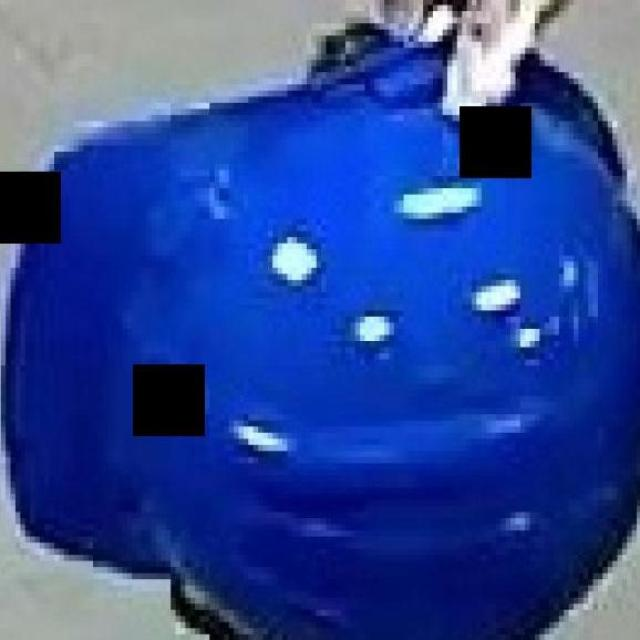blue helmet: (1, 30, 640, 640)
